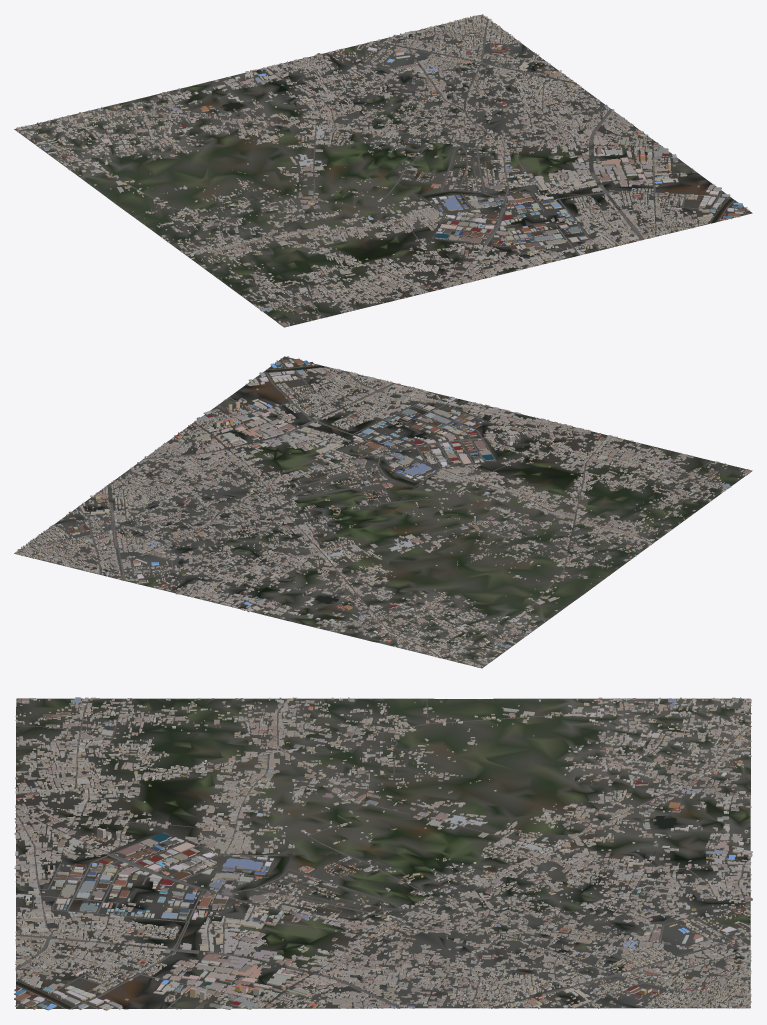
3 renders of one model, top to bottom at view 1: azimuth 30°, elevation 25°; view 2: azimuth 150°, elevation 25°; view 3: azimuth 270°, elevation 25°, orthographic. The views are drawn at different scales.
Parts seen in each view (by area): view 1: ground, buildings, roads; view 2: ground, buildings, roads; view 3: ground, buildings, roads, water.
Boxes of the visible parts, x1,y1,x2,y2 form: ground: [14, 15, 752, 327]; buildings: [16, 14, 749, 326]; roads: [22, 18, 747, 327]; ground: [16, 356, 751, 668]; buildings: [15, 356, 751, 667]; roads: [14, 359, 752, 666]; ground: [16, 698, 750, 1009]; buildings: [14, 697, 752, 1010]; roads: [15, 698, 751, 1009]; water: [16, 816, 676, 1008].
Bounding box in the file's own units: 5638 × 74.68 × 5635.
